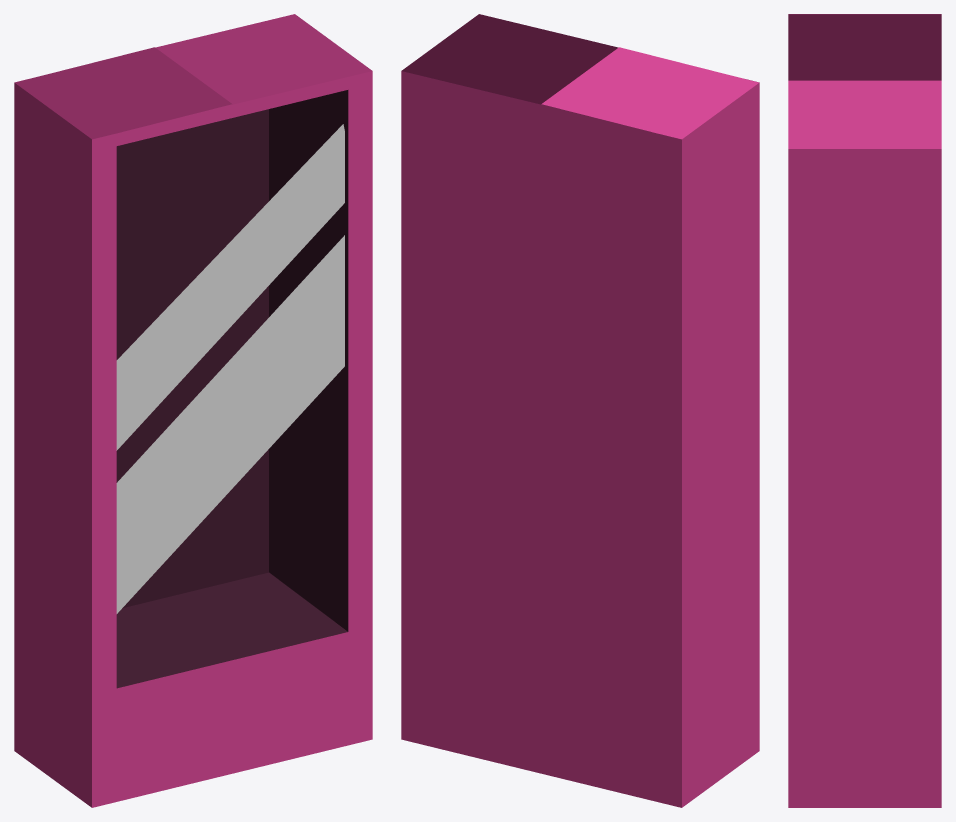
File: DollBox.fbx
The picture shows the model from 3 angles, left to right: view 1: azimuth 30°, elevation 25°; view 2: azimuth 150°, elevation 25°; view 3: azimuth 270°, elevation 25°; orthographic projection.
Visible parts, largest first — view 1: DollBox, DollBox_light; view 2: DollBox; view 3: DollBox.
Part boxes in pixels (left/top/right/bottom): DollBox: left=14, top=14, right=372, bottom=807; DollBox_light: left=116, top=124, right=344, bottom=613; DollBox: left=401, top=14, right=759, bottom=807; DollBox: left=788, top=14, right=941, bottom=807.
Bounding box in the file's own units: 8.92 × 20.34 × 4.29.
